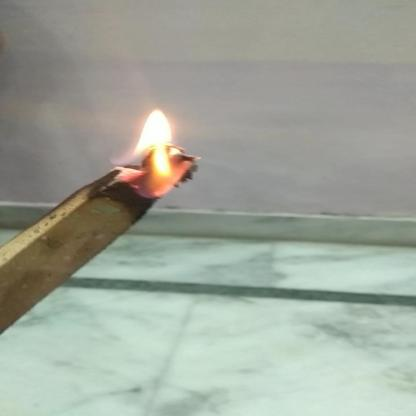fire: (110, 102, 204, 202)
